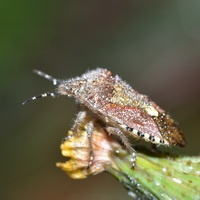insect: (33, 68, 184, 167)
